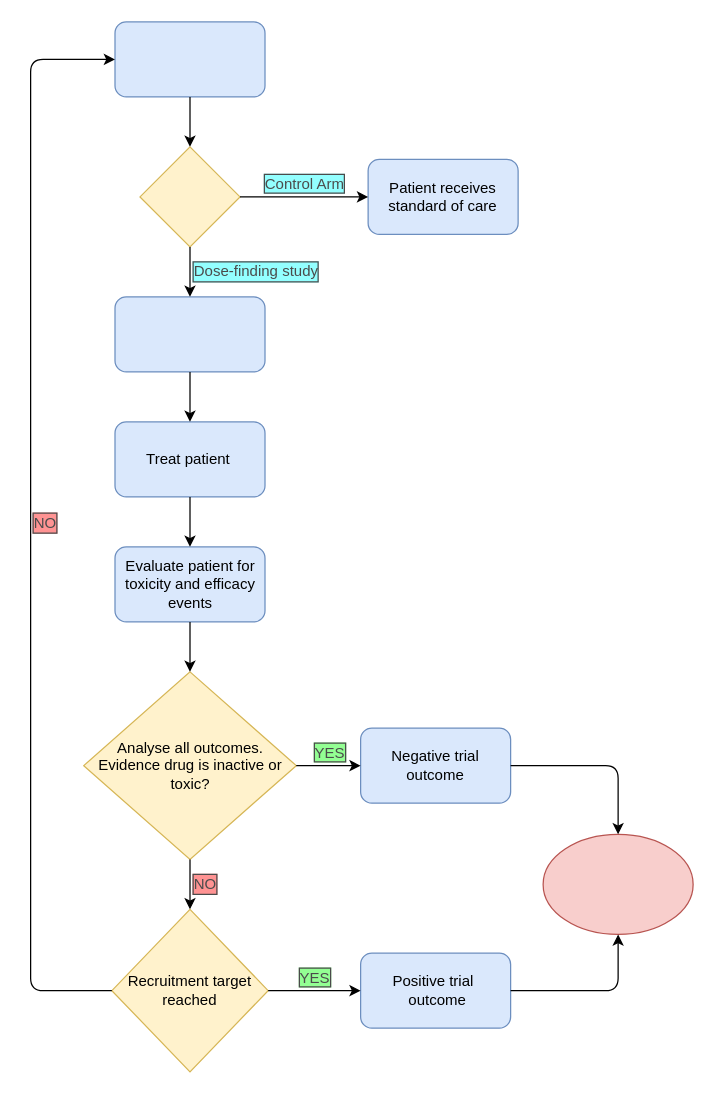
The diagram is 715 pixels wide and 1094 high, and some of its shapes have lost their labels. The shapes that lost their labels are listed below. From the top down, each one's centre as x and y in pixels, then its label:
At (189,59): "Recruit Patient".
At (189,196): "Randomise".
At (189,334): "Patient receives treatment. Dose selected by Wages and Tait design".
At (617,883): "Stop trial and report".
